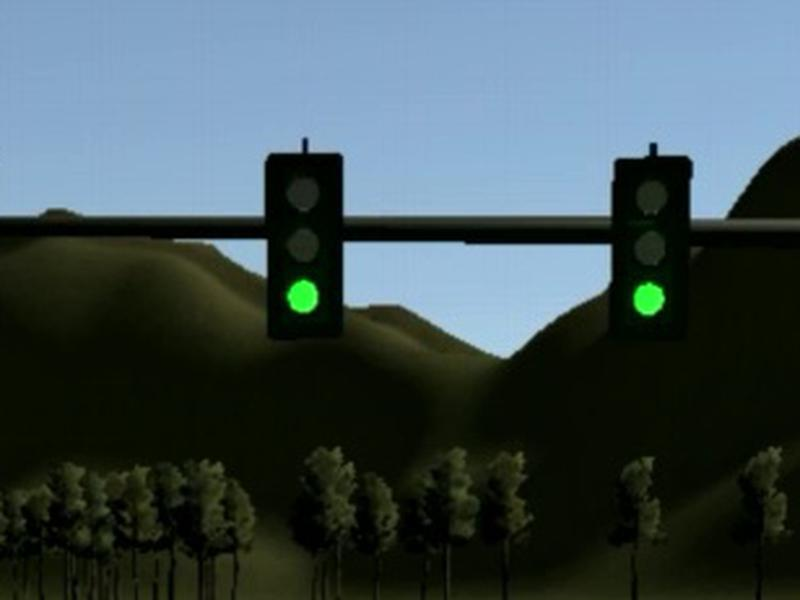Green: (609, 156, 691, 349), (265, 152, 344, 342)
